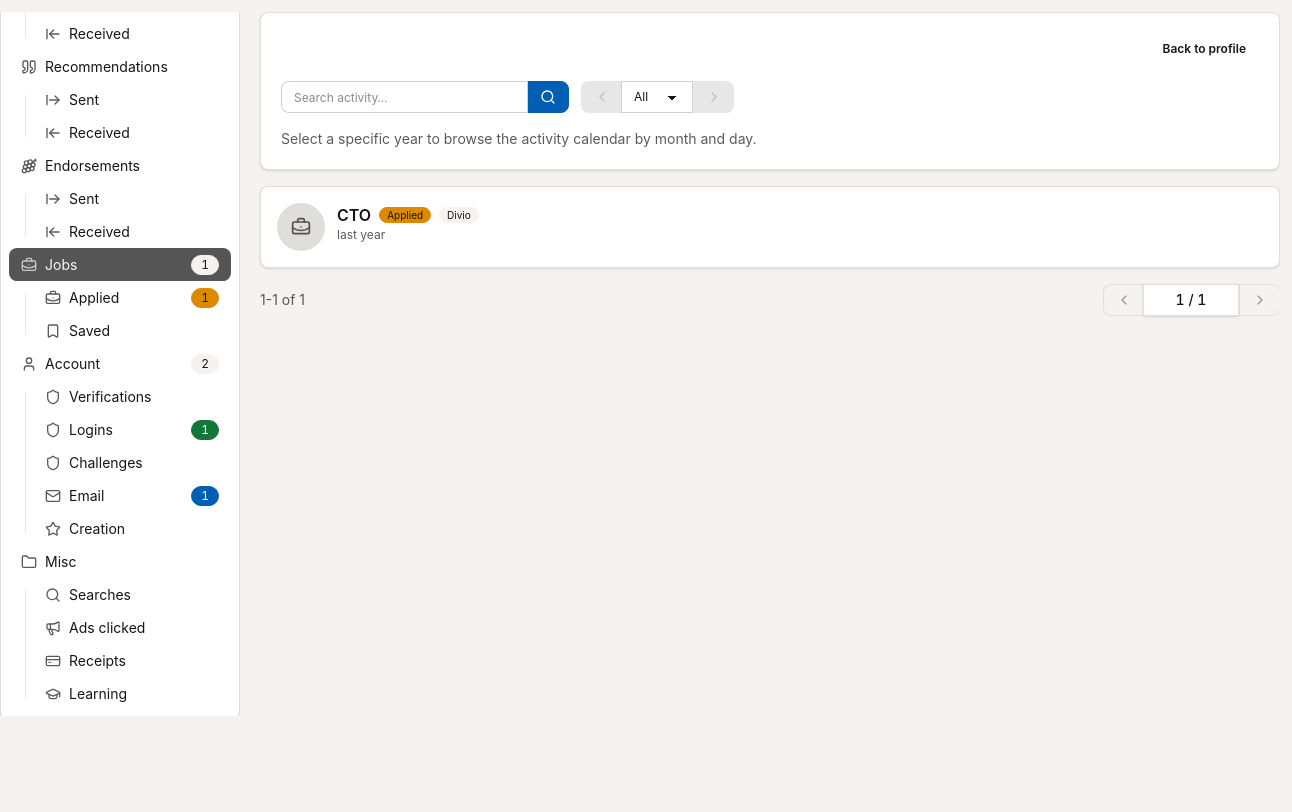
it: ActivityPage › shows first-wave filters and applies grouped activity filtering
(page scrolled)
Expected: the button "Jobs 1" is shown, [9,248,231,281]
Expected: the button "Misc" is shown, [9,545,231,578]
Click the button "Account 2" at (120, 364), box [9,347,231,380]
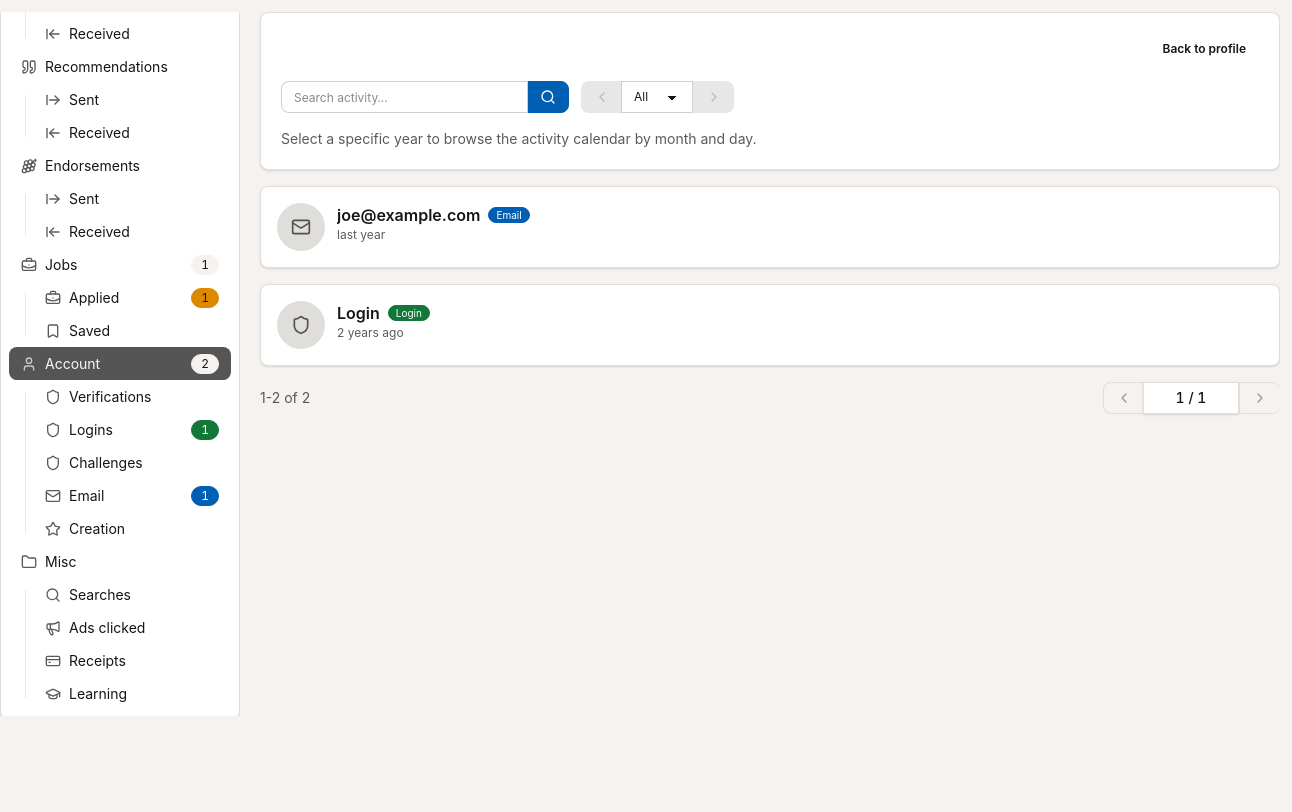
Expected: the heading "joe@example.com" is shown, [337,203,480,227]
